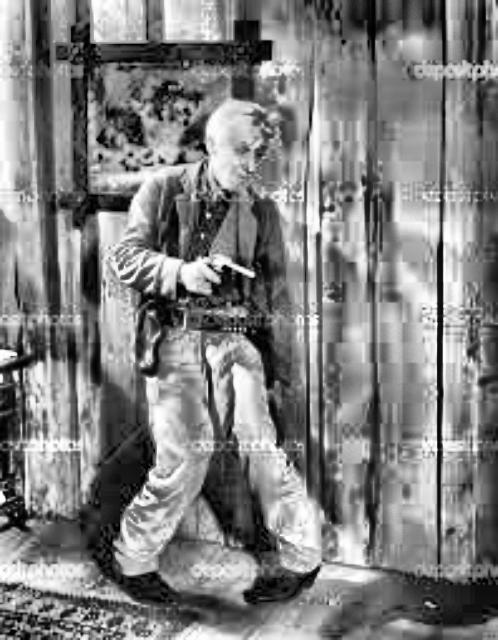pistol: (196, 252, 251, 272)
